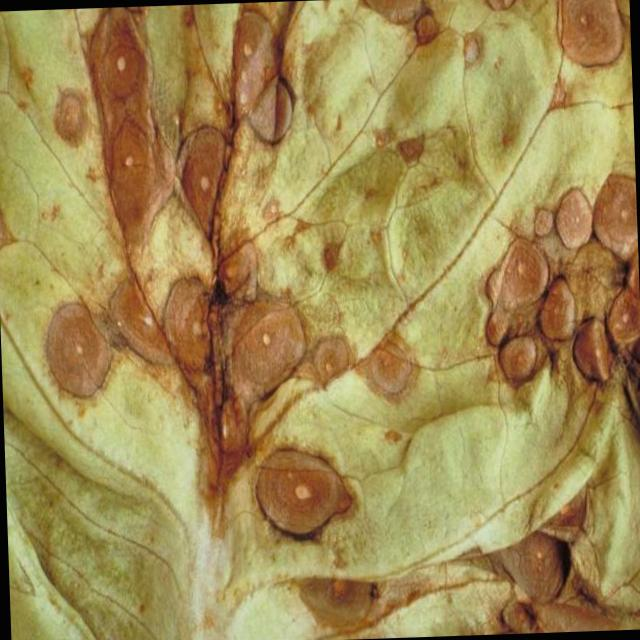Septoria_Blight: (51, 30, 406, 534)
